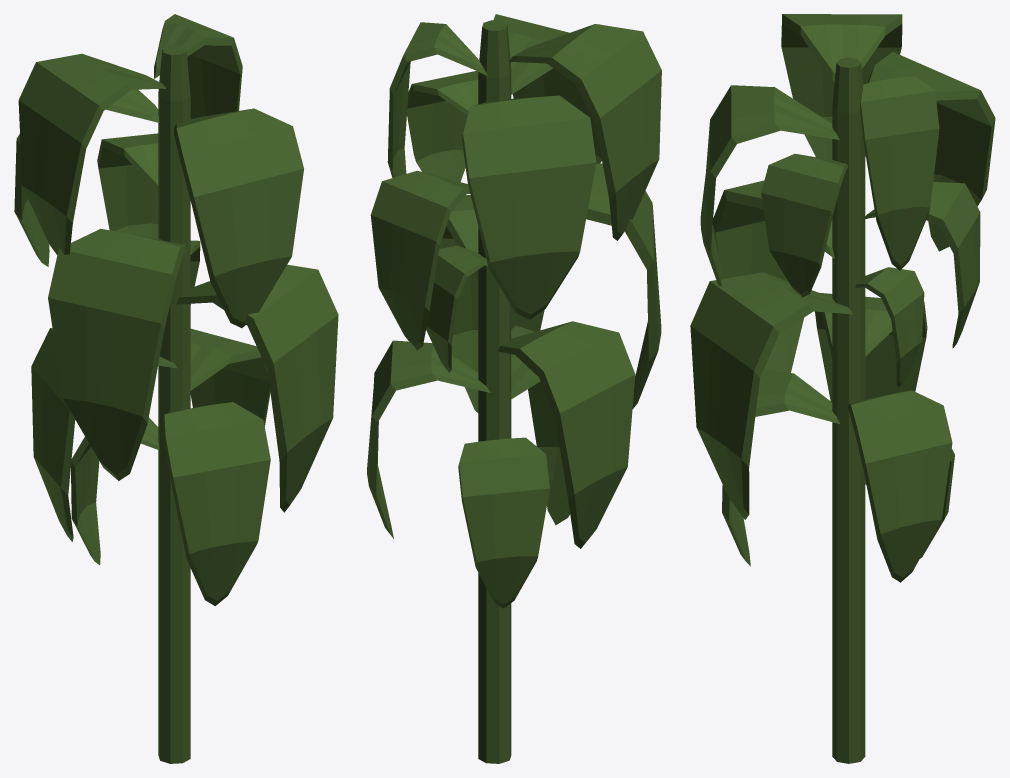
Rendered from plant2.fbx.
The picture shows the model from 3 angles, left to right: view 1: azimuth 30°, elevation 25°; view 2: azimuth 150°, elevation 25°; view 3: azimuth 270°, elevation 25°; orthographic projection. The views are drawn at different scales.
Visible parts, largest first — view 1: plant2; view 2: plant2; view 3: plant2.
Boxes of the visible parts, x1=… form: plant2: x1=14, y1=14, x2=338, y2=763; plant2: x1=367, y1=14, x2=661, y2=763; plant2: x1=690, y1=14, x2=995, y2=763.
Bounding box in the file's own units: 149 × 393 × 156.
